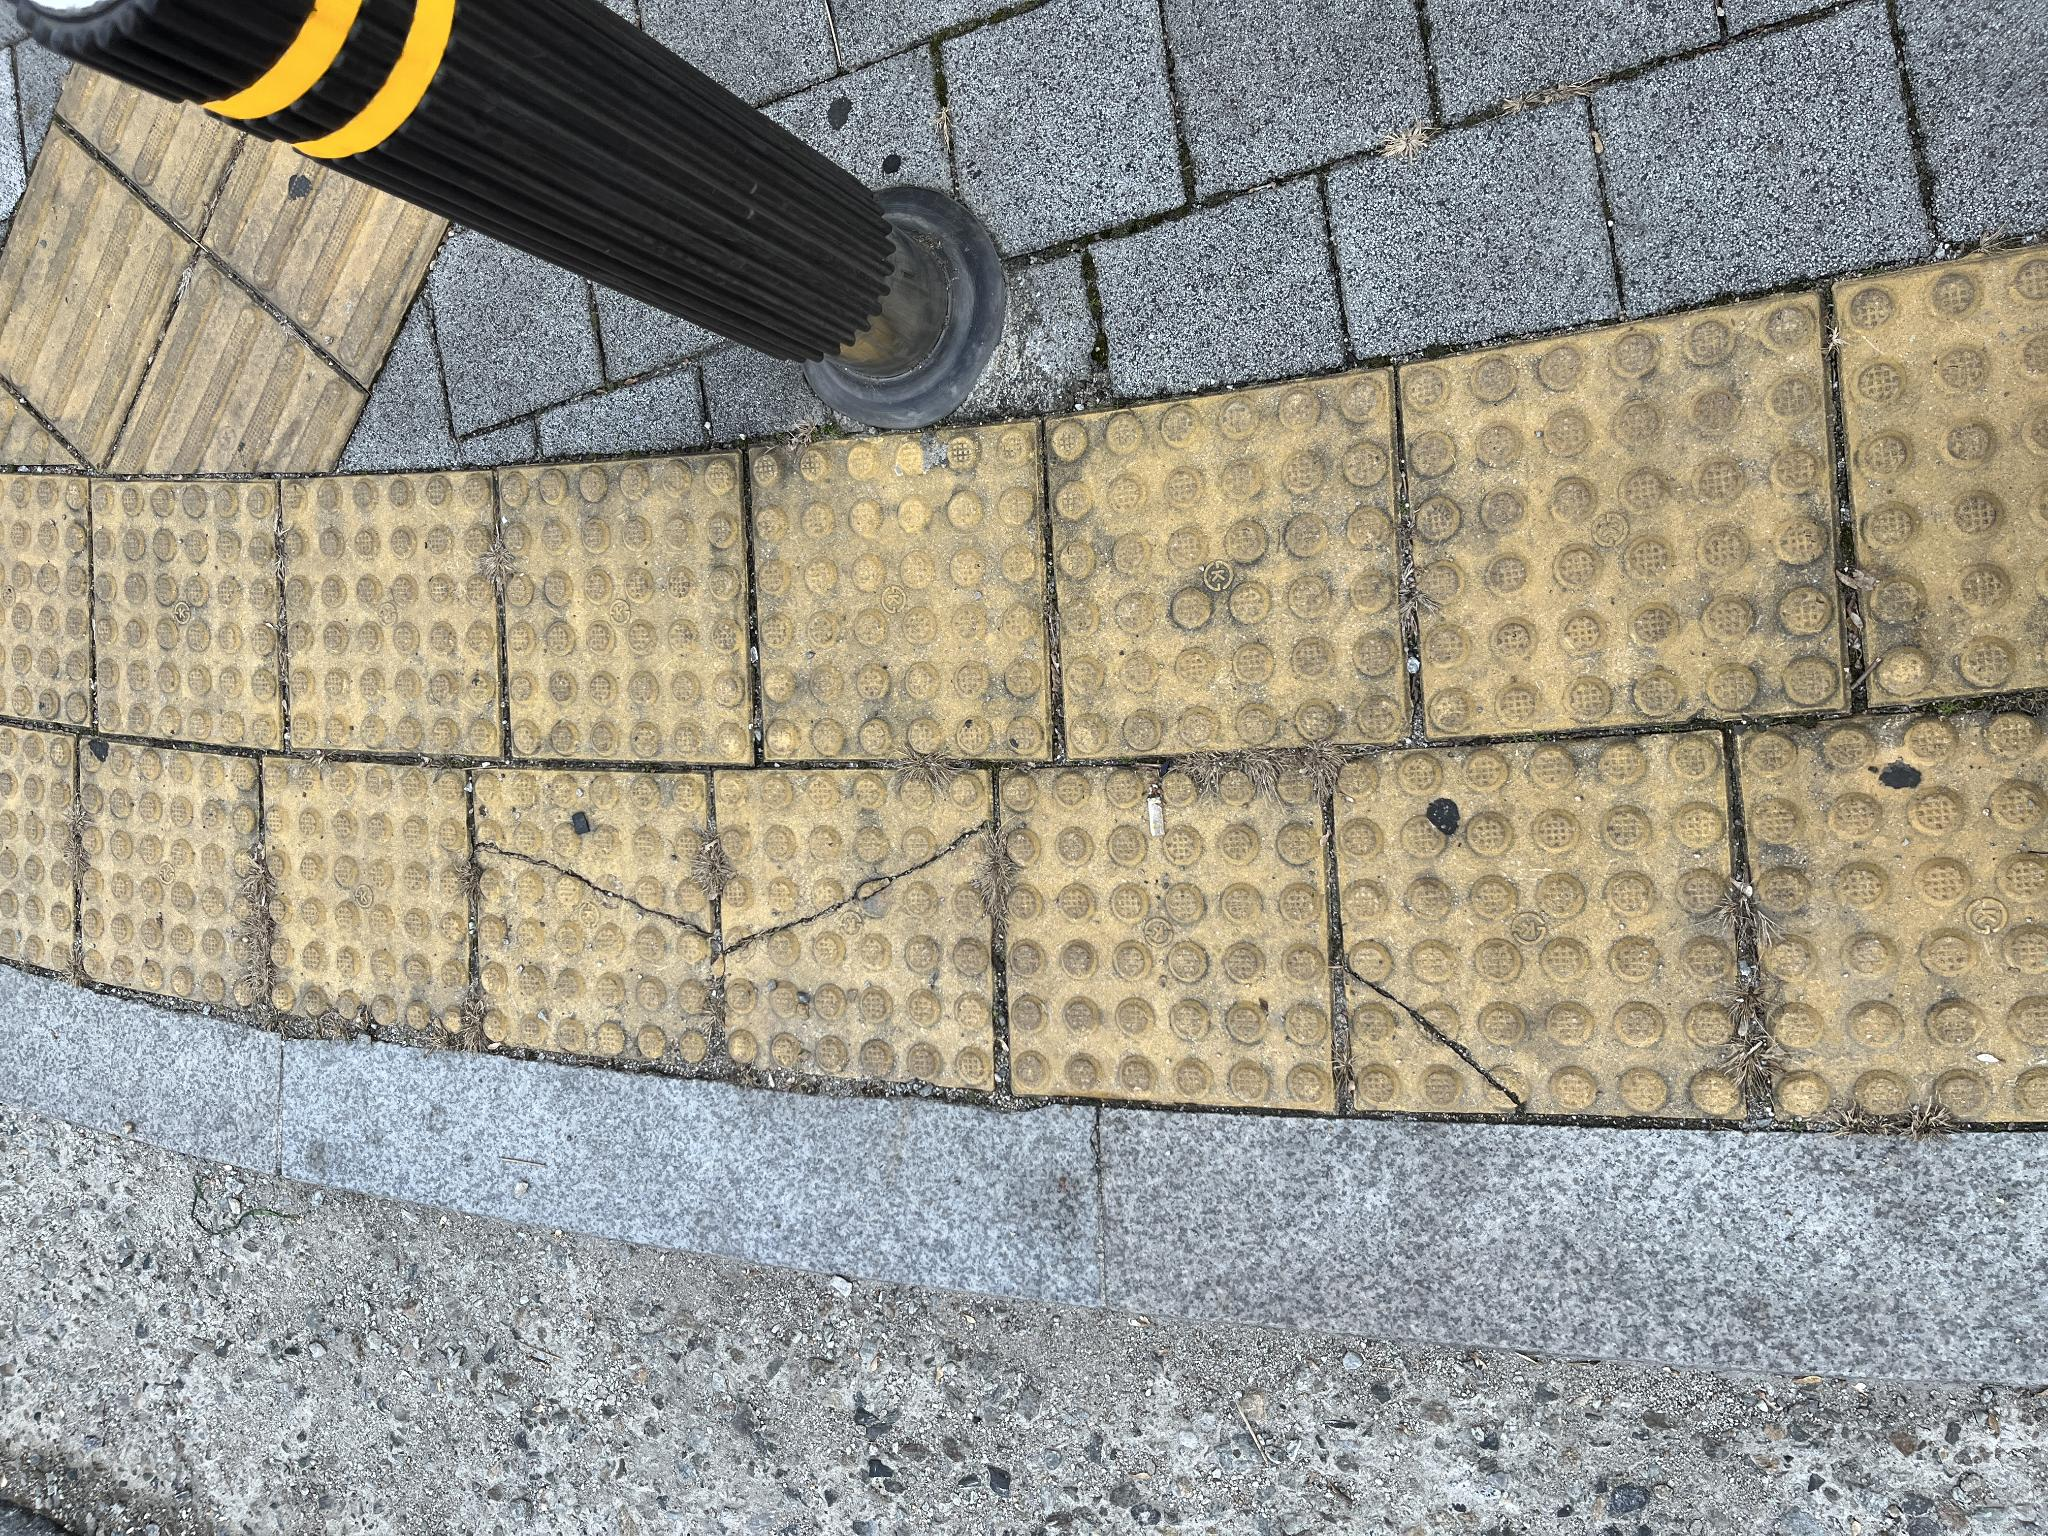Stop block broken: (448, 716, 766, 989), (468, 471, 766, 708)
Stop block normal: (777, 1046, 1169, 1402), (426, 1000, 777, 1326), (777, 750, 1116, 1047), (777, 282, 1068, 499), (524, 81, 797, 258)
